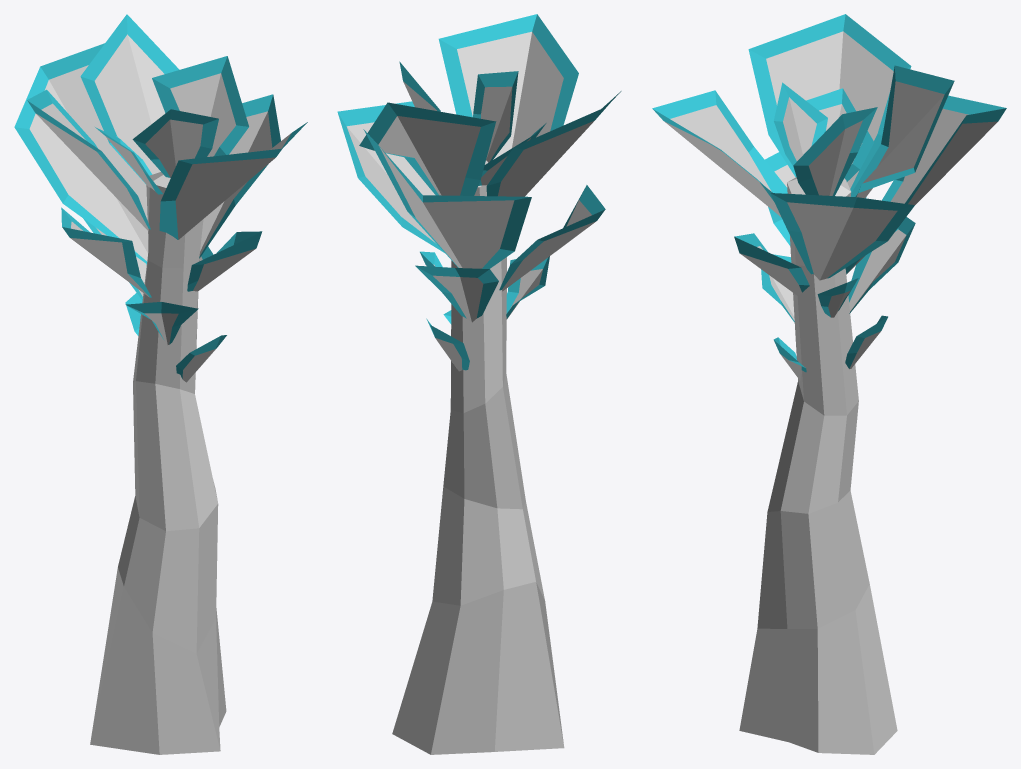
File: scifi-scifi-tree-crown-big.glb
The picture shows the model from 3 angles, left to right: view 1: azimuth 30°, elevation 25°; view 2: azimuth 150°, elevation 25°; view 3: azimuth 270°, elevation 25°; orthographic projection. The views are drawn at different scales.
Visible parts, largest first — view 1: scifi-tree-crown-big; view 2: scifi-tree-crown-big; view 3: scifi-tree-crown-big.
Part boxes in pixels (x1=…): scifi-tree-crown-big: x1=14, y1=14, x2=307, y2=754; scifi-tree-crown-big: x1=337, y1=14, x2=621, y2=754; scifi-tree-crown-big: x1=652, y1=14, x2=1006, y2=754.
Size of the model in its own units: 2.53 by 6.28 by 3.08.
